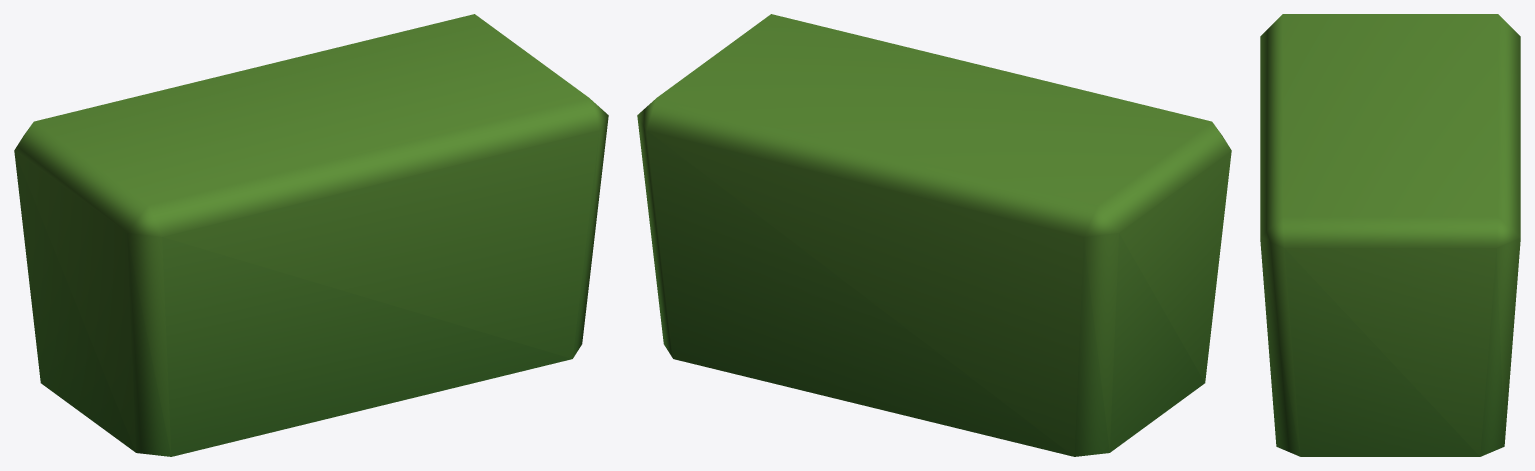
Rendered from sn_bush_low.glb.
3 views of the same model, side by side, from view 1: azimuth 30°, elevation 25°; view 2: azimuth 150°, elevation 25°; view 3: azimuth 270°, elevation 25° (orthographic). The views are drawn at different scales.
Parts seen in each view (by area): view 1: sn_bush_low; view 2: sn_bush_low; view 3: sn_bush_low.
Boxes of the visible parts, x1,y1,x2,y2 form: sn_bush_low: [14, 14, 608, 456]; sn_bush_low: [637, 14, 1231, 456]; sn_bush_low: [1260, 14, 1520, 456].
Size of the model in its own units: 1.79 by 0.9 by 0.8888.
